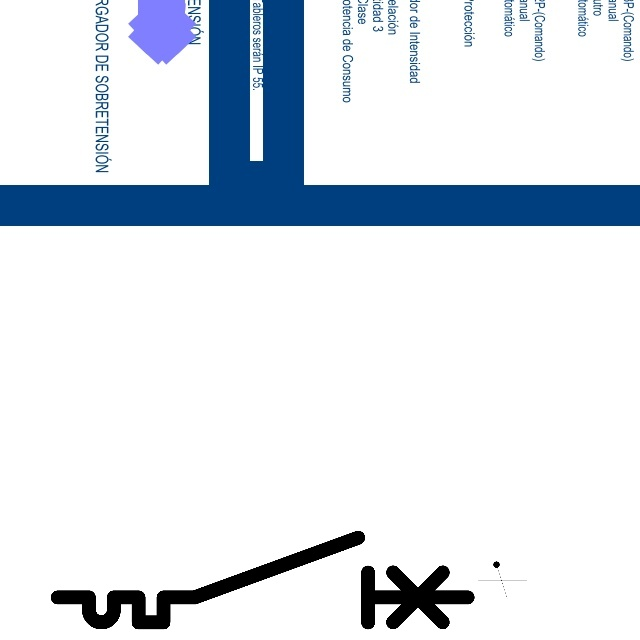interruptor_termomagnetico: (47, 527, 478, 633)
